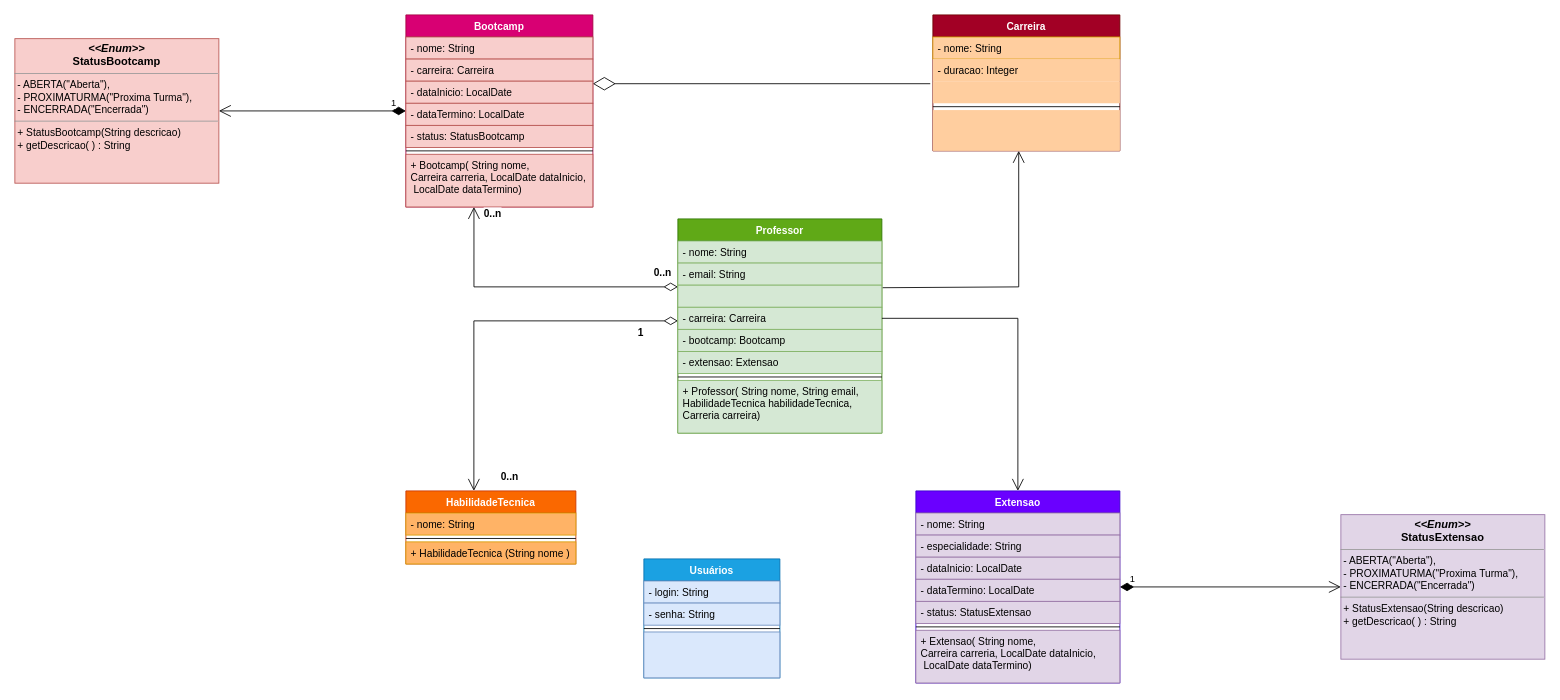
Image size: 1560x700. Some labels were removed from this diagram. The shapes that lost their labels are listed below. From the top down, each one's centre as x and y in pixels, then its label:
point 1025,92: - duracaoProjetoFinal: Integer
point 1025,130: + Carreria (String nome, Integer duracao, Integer duracaoProjetoFinal)
point 779,295: - habilidadeTecnica: HabilidadeTecnica
point 711,654: + Usuario( String login, String senha )
